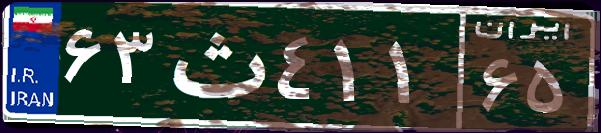1: (385, 28, 445, 110), (330, 28, 385, 110)
3: (110, 28, 158, 105)
4: (273, 28, 330, 110)
5: (525, 38, 570, 115)
6: (57, 26, 110, 107), (475, 38, 525, 113)
ث: (158, 15, 273, 115)
